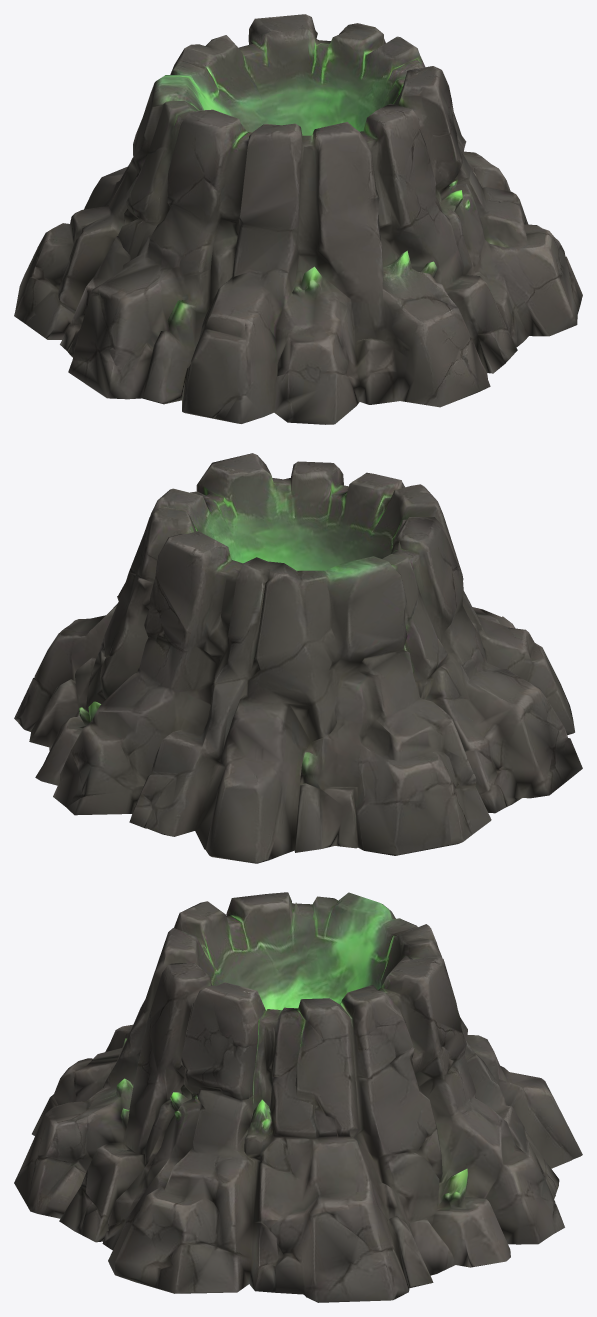
Rendered from geyser.glb.
The picture shows the model from 3 angles, top to bottom: view 1: azimuth 30°, elevation 25°; view 2: azimuth 150°, elevation 25°; view 3: azimuth 270°, elevation 25°; orthographic projection. The views are drawn at different scales.
Parts seen in each view (by area): view 1: tripo_node_b5c2d9ed-19bb-4649-9abf-0383f9dfd79f; view 2: tripo_node_b5c2d9ed-19bb-4649-9abf-0383f9dfd79f; view 3: tripo_node_b5c2d9ed-19bb-4649-9abf-0383f9dfd79f.
Boxes of the visible parts, box(x1,y1,x2,y2) form: tripo_node_b5c2d9ed-19bb-4649-9abf-0383f9dfd79f: box(14, 14, 582, 424); tripo_node_b5c2d9ed-19bb-4649-9abf-0383f9dfd79f: box(14, 453, 582, 863); tripo_node_b5c2d9ed-19bb-4649-9abf-0383f9dfd79f: box(14, 892, 582, 1302).
Size of the model in its own units: 3 by 1.41 by 3.
Materials: 1 (1 with a texture image).
